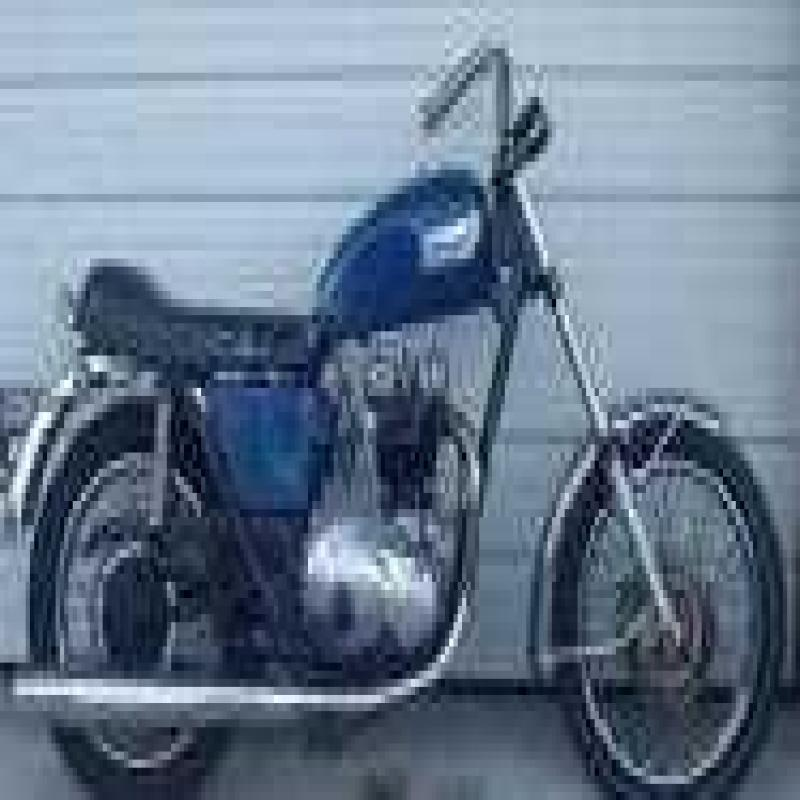bike: (5, 34, 800, 800)
